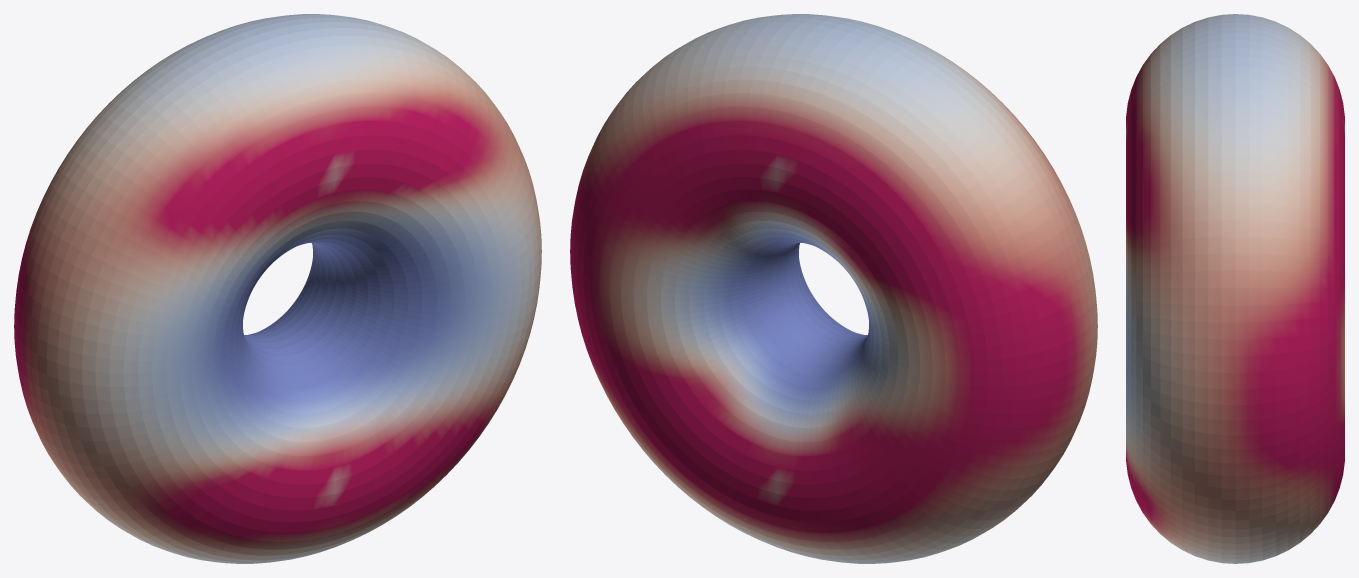
The picture shows the model from 3 angles, left to right: view 1: azimuth 30°, elevation 25°; view 2: azimuth 150°, elevation 25°; view 3: azimuth 270°, elevation 25°; orthographic projection. The views are drawn at different scales.
Parts seen in each view (by area): view 1: world; view 2: world; view 3: world.
Part boxes in pixels (left/top/right/bottom): world: left=14, top=14, right=541, bottom=563; world: left=570, top=14, right=1097, bottom=563; world: left=1126, top=14, right=1344, bottom=563.
Bounding box in the file's own units: 21.07 × 21.07 × 8.38.
